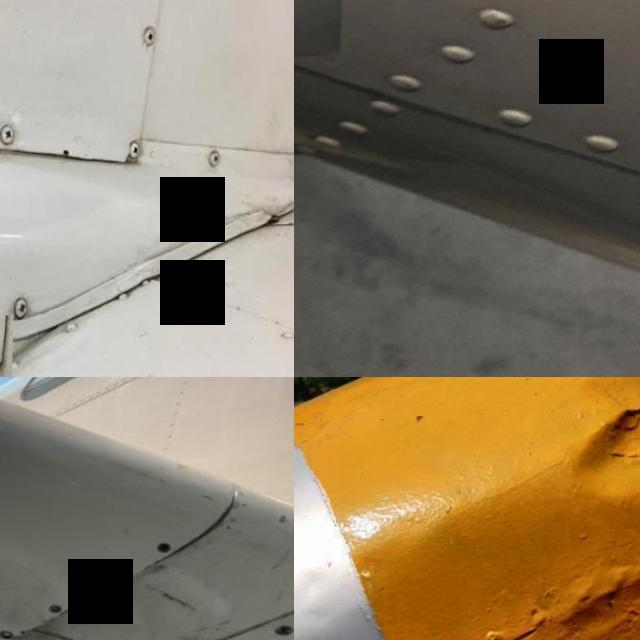Dent: (547, 377, 640, 540)
Missing_Fastener: (274, 628, 294, 639), (47, 604, 64, 616), (158, 544, 172, 556), (102, 576, 115, 588), (0, 630, 14, 640)
